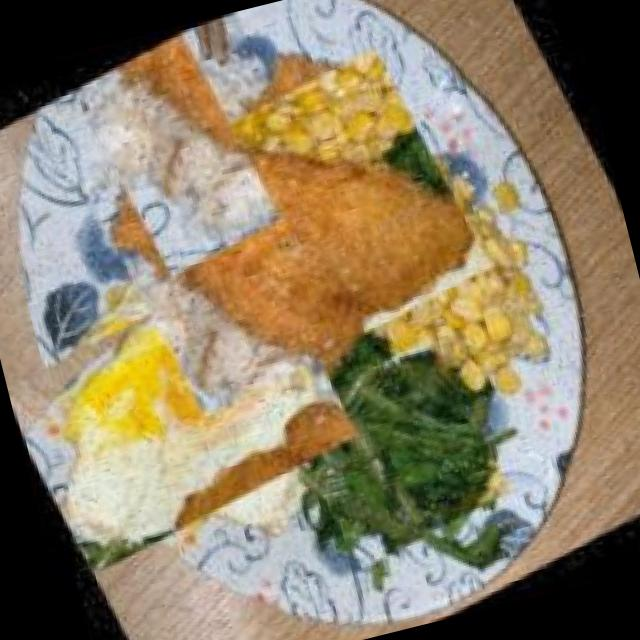fried_chicken: (76, 17, 506, 447)
fried_eggs: (0, 222, 363, 603)
rice: (48, 25, 302, 280)
water_spinach: (264, 323, 522, 581)
